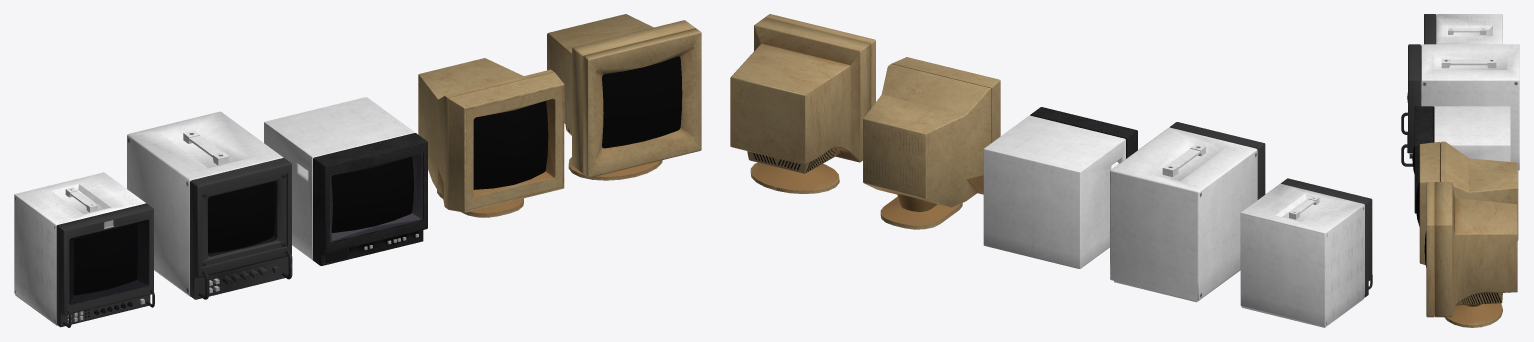
File: Monitores.fbx
The picture shows the model from 3 angles, left to right: view 1: azimuth 30°, elevation 25°; view 2: azimuth 150°, elevation 25°; view 3: azimuth 270°, elevation 25°; orthographic projection. The views are drawn at different scales.
Visible parts, largest first — view 1: Material_005-material, Material_006-material, Material_008-material, Material_003-material, Material_007-material, Material_004-material.004, Material_004-material.003, Material_004-material.002, Material_004-material.001, Material_004-material; view 2: Material_005-material, Material_008-material, Material_006-material, Material_007-material, Material_003-material; view 3: Material_008-material, Material_005-material, Material_007-material, Material_006-material, Material_003-material, Material_004-material.003.
Part boxes in pixels (box(x1,y1,x2,y2)): Material_005-material: box(127, 111, 292, 299); Material_006-material: box(264, 97, 427, 265); Material_008-material: box(547, 14, 701, 180); Material_003-material: box(14, 172, 154, 327); Material_007-material: box(418, 58, 564, 217); Material_004-material.004: box(602, 56, 682, 148); Material_004-material.003: box(473, 101, 548, 189); Material_004-material.002: box(331, 156, 413, 232); Material_004-material.001: box(208, 181, 275, 253); Material_004-material: box(73, 224, 137, 295); Material_005-material: box(1110, 122, 1265, 302); Material_008-material: box(730, 14, 875, 193); Material_006-material: box(983, 107, 1137, 268); Material_007-material: box(863, 57, 1000, 229); Material_003-material: box(1240, 178, 1372, 327); Material_008-material: box(1426, 182, 1517, 327); Material_005-material: box(1401, 44, 1519, 170); Material_007-material: box(1419, 141, 1518, 264); Material_006-material: box(1414, 106, 1510, 213); Material_003-material: box(1424, 14, 1502, 44); Material_004-material.003: box(1415, 181, 1419, 226).
Bounding box in the file's own units: 477 × 102 × 97.96.
6 materials, 5 textured.
